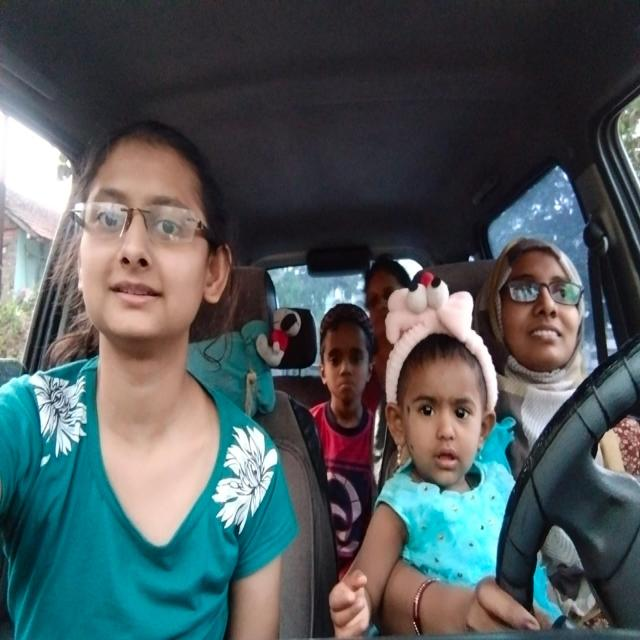child: (384, 285, 501, 483)
person: (72, 119, 230, 358), (491, 225, 591, 398), (315, 293, 380, 417), (366, 257, 420, 328)
